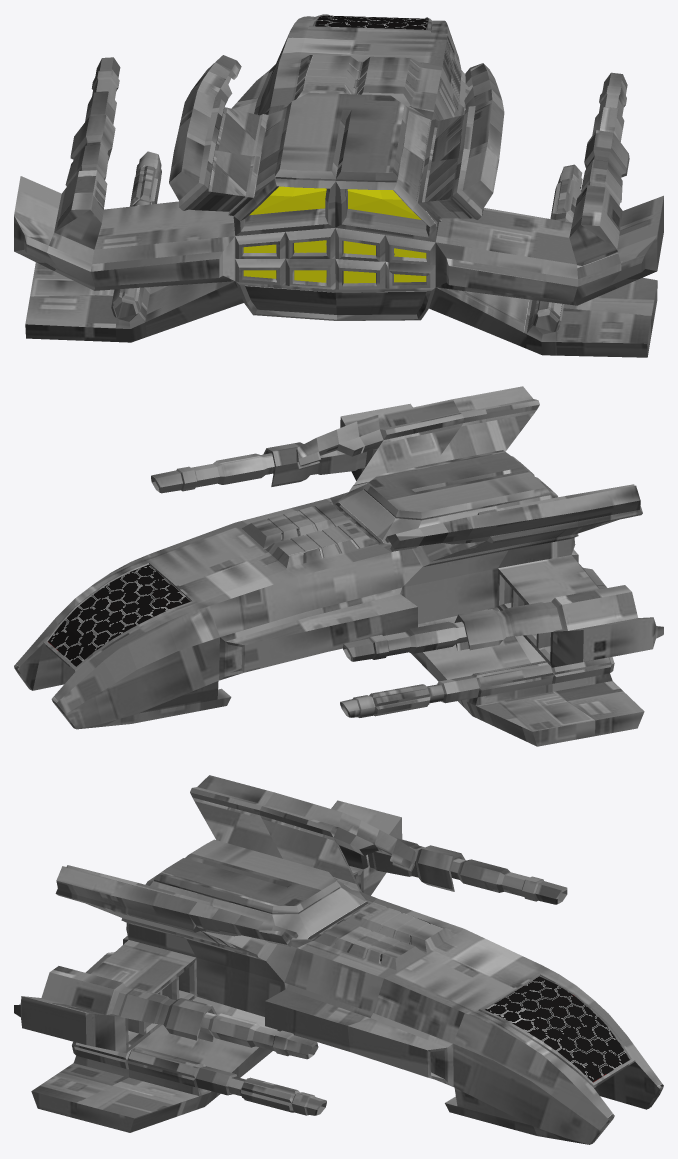
3 views of the same model, one above another, from view 1: azimuth 30°, elevation 25°; view 2: azimuth 150°, elevation 25°; view 3: azimuth 270°, elevation 25° (orthographic). The views are drawn at different scales.
Visible parts, largest first — view 1: ms_Object007.001; view 2: ms_Object007.001; view 3: ms_Object007.001.
Boxes of the visible parts, x1,y1,x2,y2 form: ms_Object007.001: (14,14,663,357); ms_Object007.001: (14,386,663,746); ms_Object007.001: (14,775,663,1144).
Size of the model in its own units: 745 by 247 by 809.
